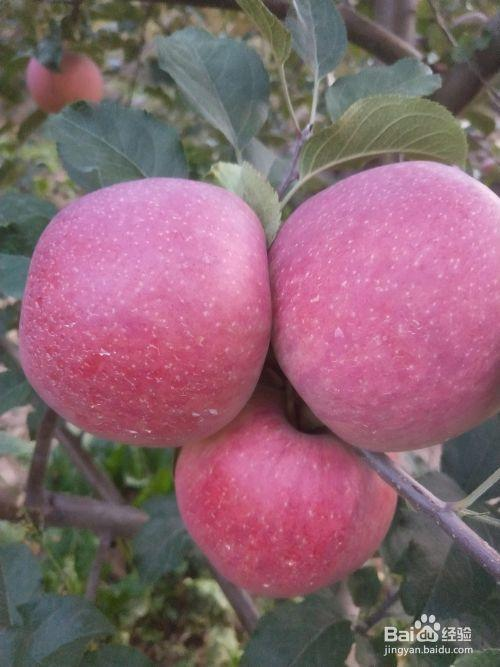apple: (21, 177, 274, 447), (275, 160, 500, 446), (177, 370, 401, 595)
